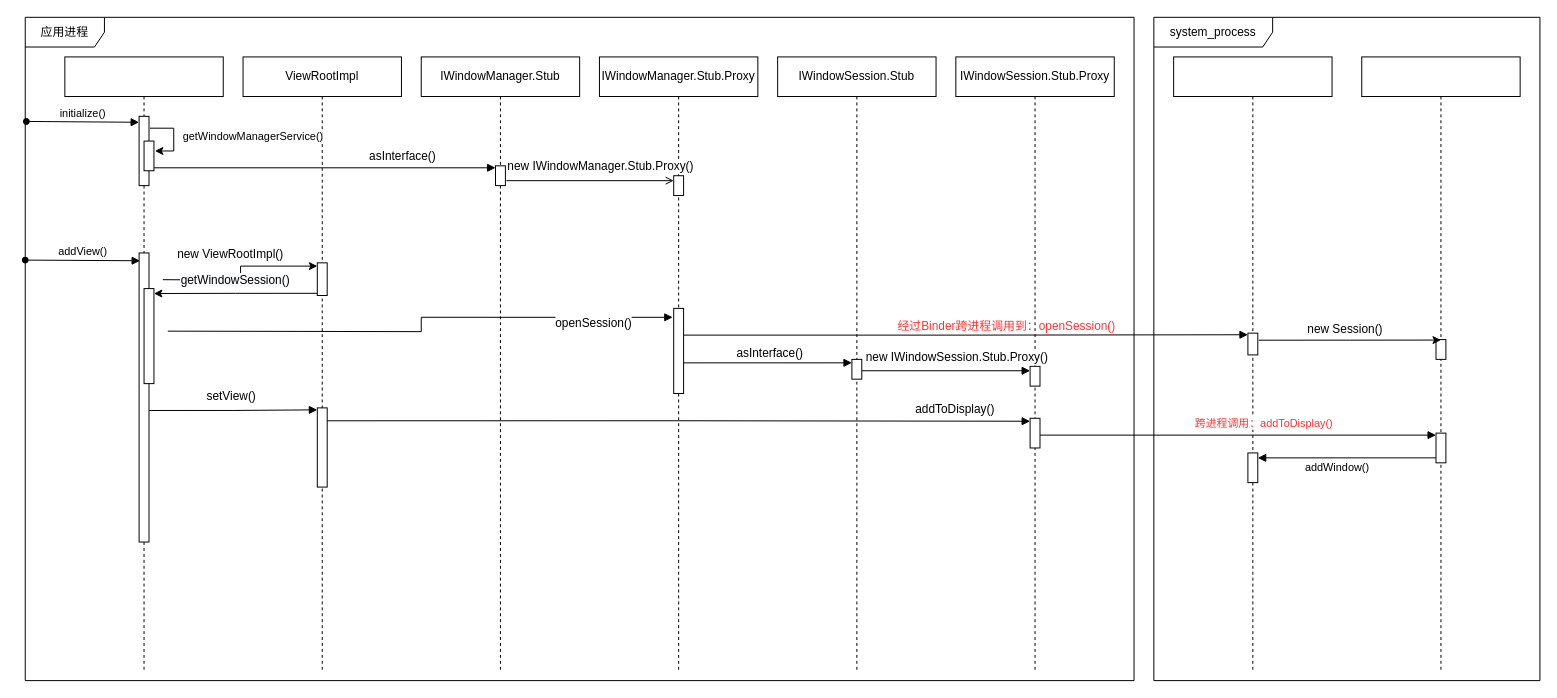
Some shapes in this 1557 by 698 pixel diagram are drawn without their labels. Each missing label, with the centre of its shape:
Session: the point at 1440,363
WindowManagerGlobal: the point at 143,363
WindowManagerService: the point at 1252,363
